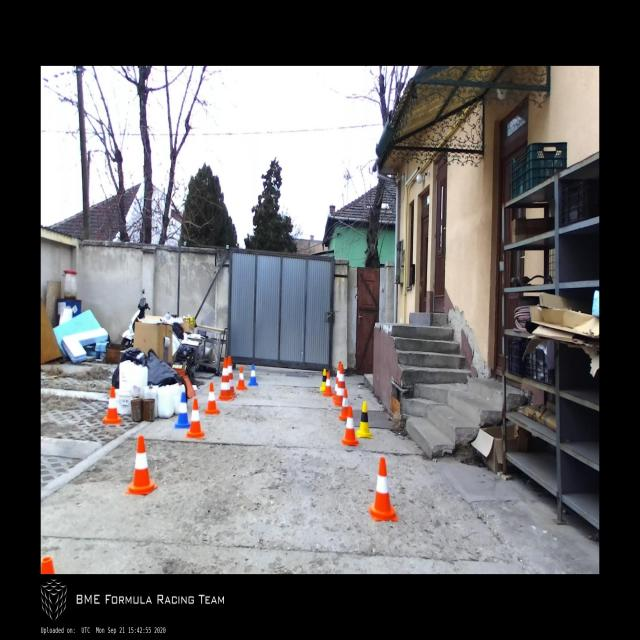blue_cone: (174, 392, 191, 428), (248, 363, 258, 387)
large_orange_cone: (216, 358, 234, 402), (334, 364, 346, 407), (227, 356, 237, 398), (332, 361, 341, 403)
orange_cone: (125, 435, 158, 495), (368, 457, 398, 521), (186, 398, 205, 438), (103, 386, 121, 424), (342, 406, 359, 446), (204, 382, 220, 414), (339, 389, 349, 420), (235, 366, 247, 390), (323, 372, 333, 396)
yellow_cone: (356, 401, 372, 439), (320, 368, 327, 391)
